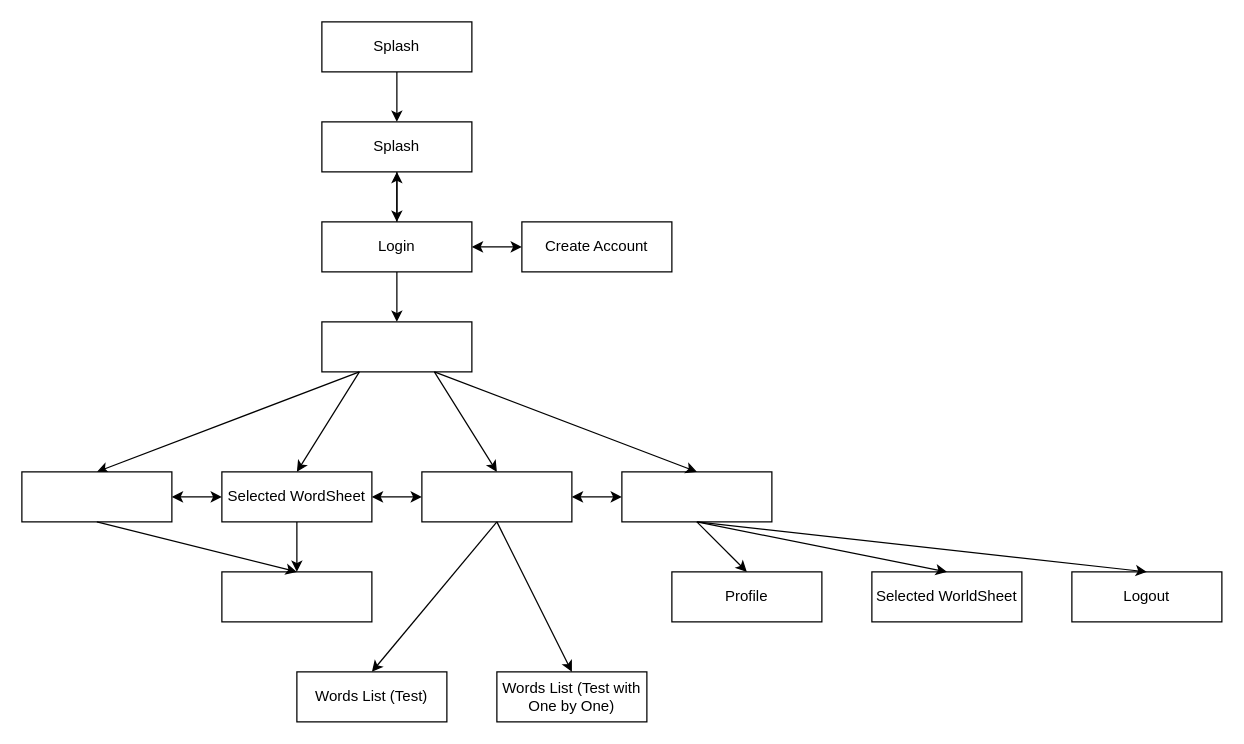
The diagram is 1244 pixels wide and 744 high, and some of its shapes have lost their labels. The centre of each missing label's shape, as x and y in pixels:
Home: [96,496]
Main: [396,346]
Setting: [696,496]
Test: [496,496]
Words List: [296,596]
